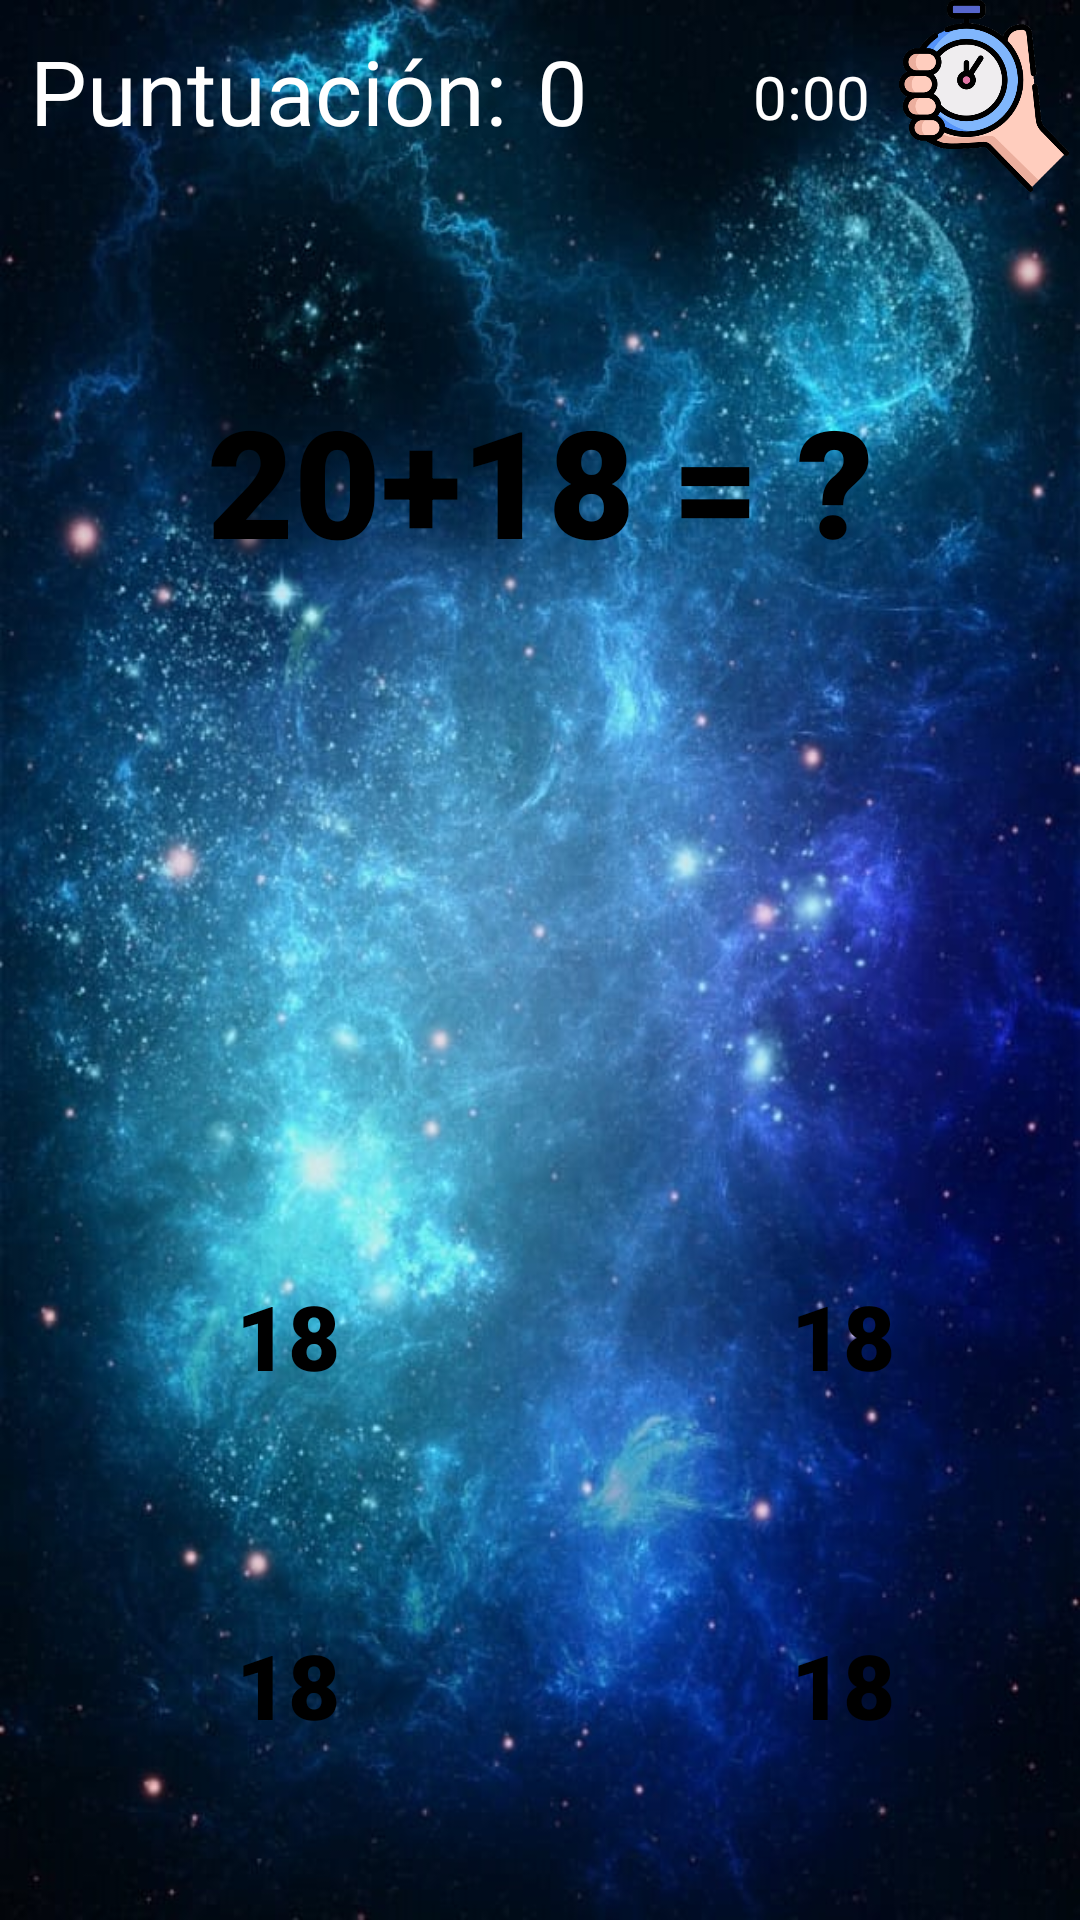

Icons on this 1080 × 1920 Android screen, each with the point to tap as (x,y):
cronometro: (984,96)
